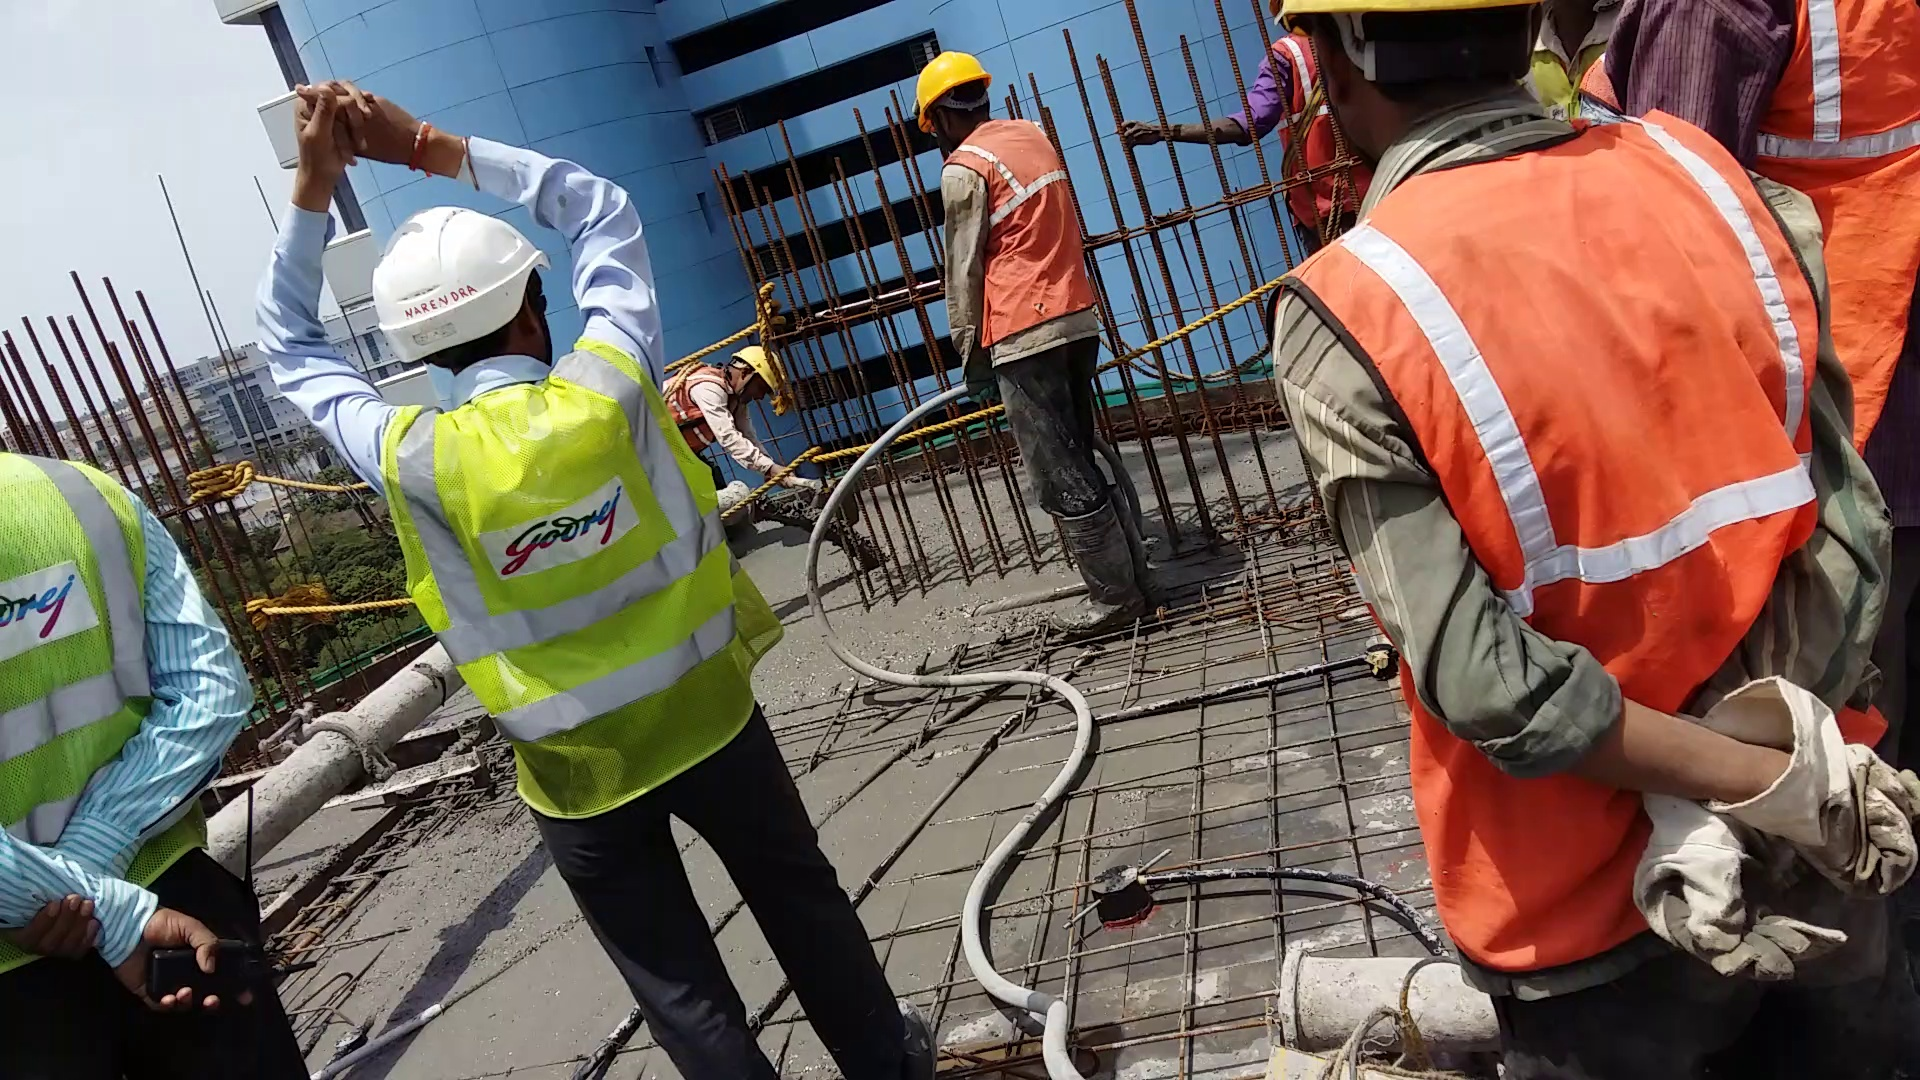SAFE: (372, 200, 731, 812), (909, 44, 1095, 349)
